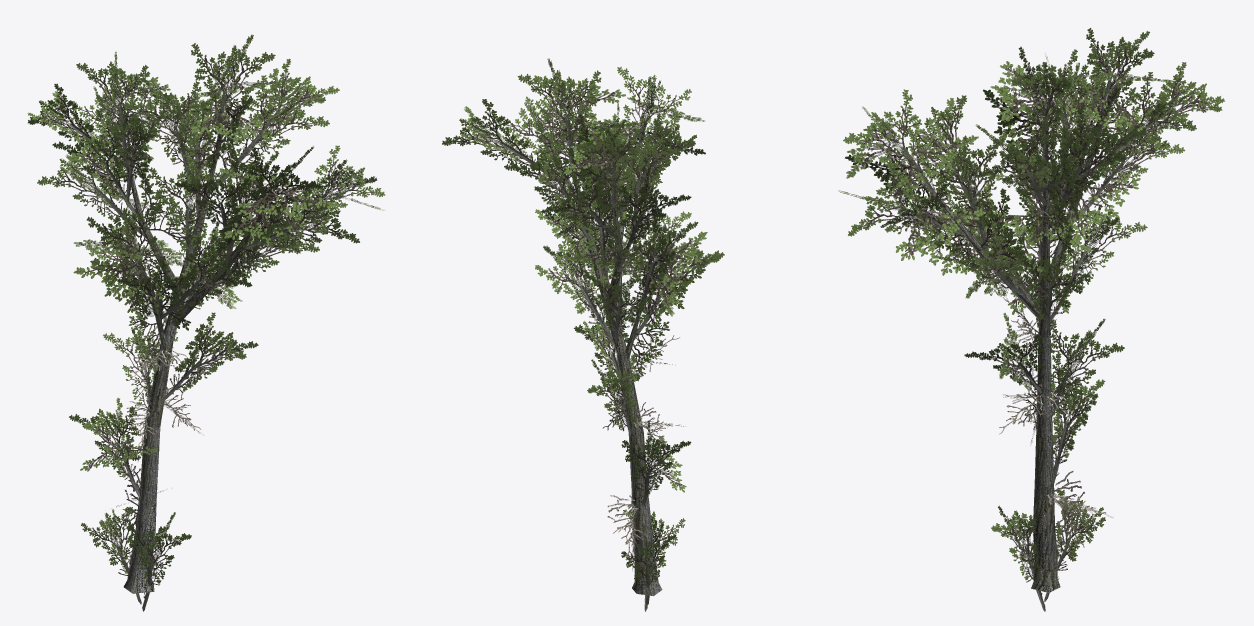
The model's file is olmo_a.glb.
The picture shows the model from 3 angles, left to right: view 1: azimuth 30°, elevation 25°; view 2: azimuth 150°, elevation 25°; view 3: azimuth 270°, elevation 25°; orthographic projection. The views are drawn at different scales.
Visible parts, largest first — view 1: Modelo; view 2: Modelo; view 3: Modelo.
Boxes of the visible parts, x1=… form: Modelo: x1=27, y1=34, x2=385, y2=611; Modelo: x1=442, y1=58, x2=724, y2=611; Modelo: x1=838, y1=28, x2=1224, y2=611.
Size of the model in its own units: 7.11 by 13.6 by 8.7.
Materials: 1 (1 with a texture image).
